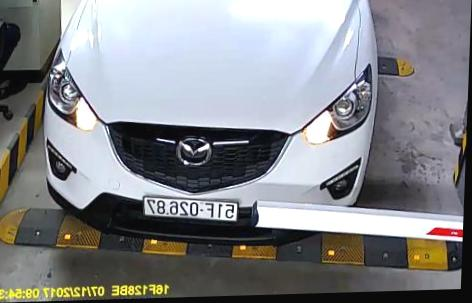License_Plate: (138, 191, 244, 223)
